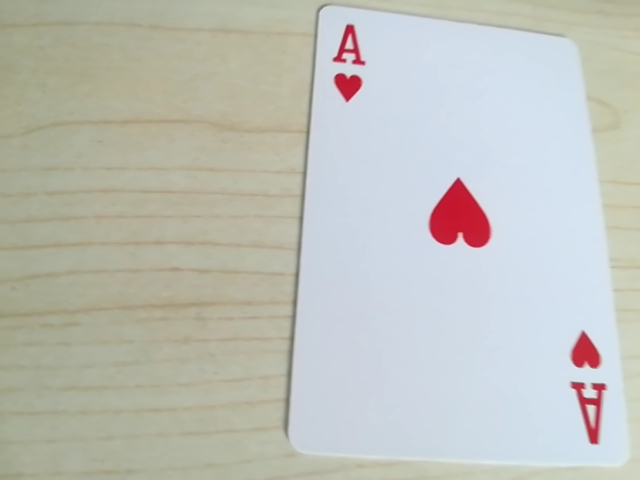hx a: (567, 333, 613, 455), (325, 14, 370, 81)
